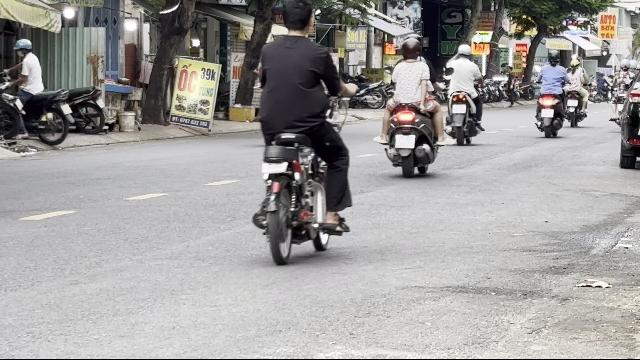helmet: (399, 37, 421, 59), (12, 38, 32, 60), (456, 44, 472, 58)
licenseplate: (395, 134, 415, 148), (452, 104, 466, 114)
motorcyclist: (248, 0, 358, 262), (376, 36, 444, 178), (0, 37, 80, 152), (443, 44, 485, 144)
nohelmet: (280, 1, 316, 38)
